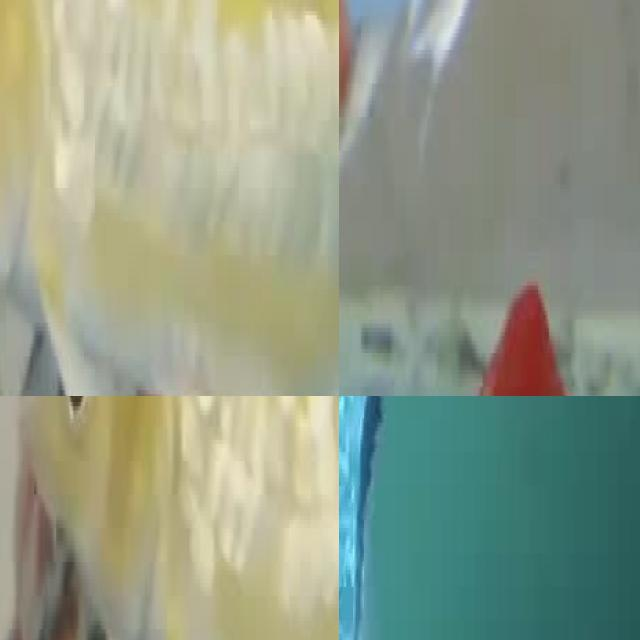fish: (0, 0, 339, 396), (5, 396, 339, 640)
